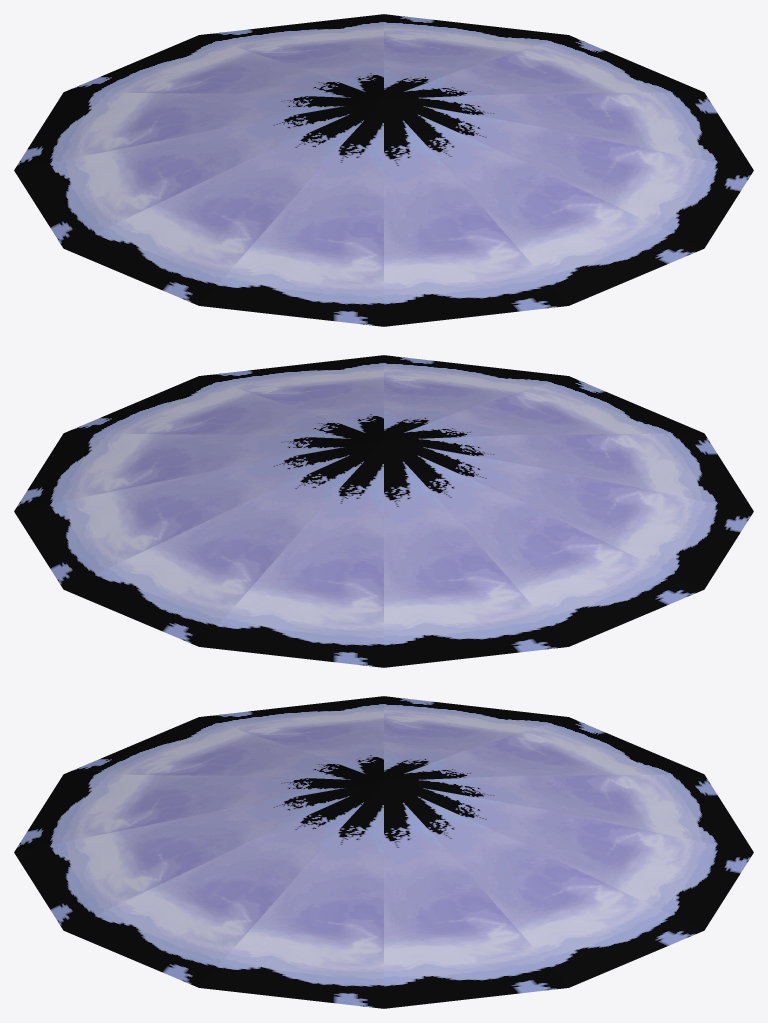
The model's file is san.fbx.
3 views of the same model, one above another, from view 1: azimuth 30°, elevation 25°; view 2: azimuth 150°, elevation 25°; view 3: azimuth 270°, elevation 25° (orthographic).
Visible parts, largest first — view 1: 对象010; view 2: 对象010; view 3: 对象010.
Boxes of the visible parts, x1=… form: 对象010: x1=14, y1=14, x2=753, y2=326; 对象010: x1=14, y1=355, x2=753, y2=667; 对象010: x1=14, y1=696, x2=753, y2=1008.
Size of the model in its own units: 179 by 18.98 by 179.
